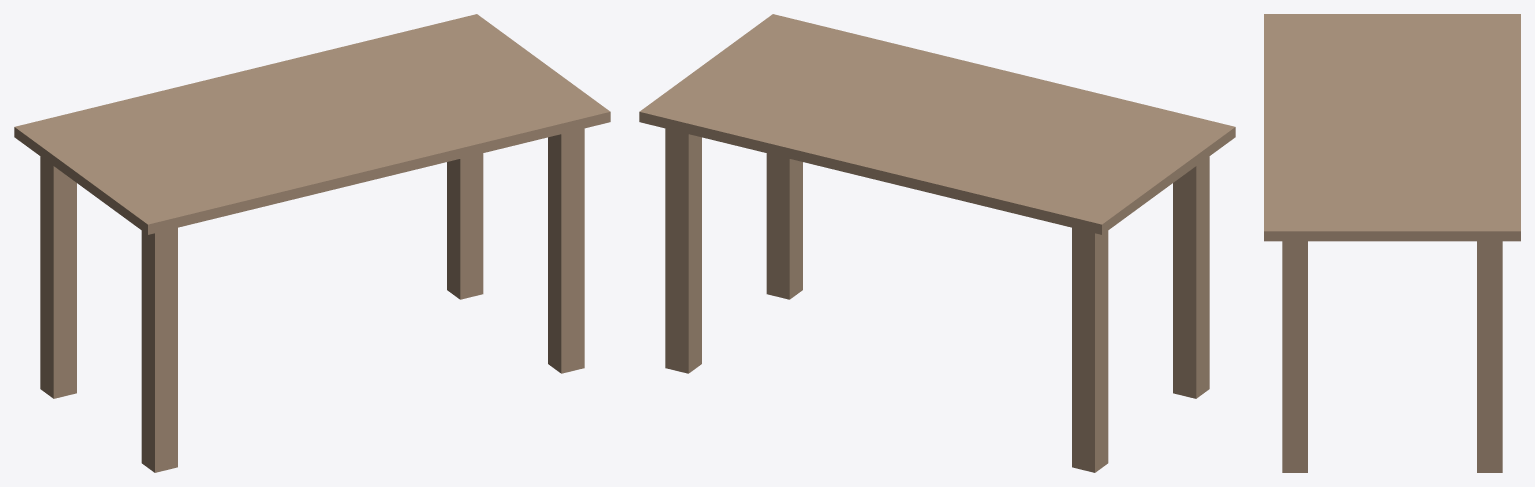
Rendered from table.glb.
3 views of the same model, side by side, from view 1: azimuth 30°, elevation 25°; view 2: azimuth 150°, elevation 25°; view 3: azimuth 270°, elevation 25° (orthographic). The views are drawn at different scales.
Parts seen in each view (by area): view 1: table; view 2: table; view 3: table.
Boxes of the visible parts, <box> form: table: <box>14,14,610,472</box>; table: <box>639,14,1235,472</box>; table: <box>1264,14,1520,472</box>.
Bounding box in the file's own units: 1.4 × 0.75 × 0.7.
